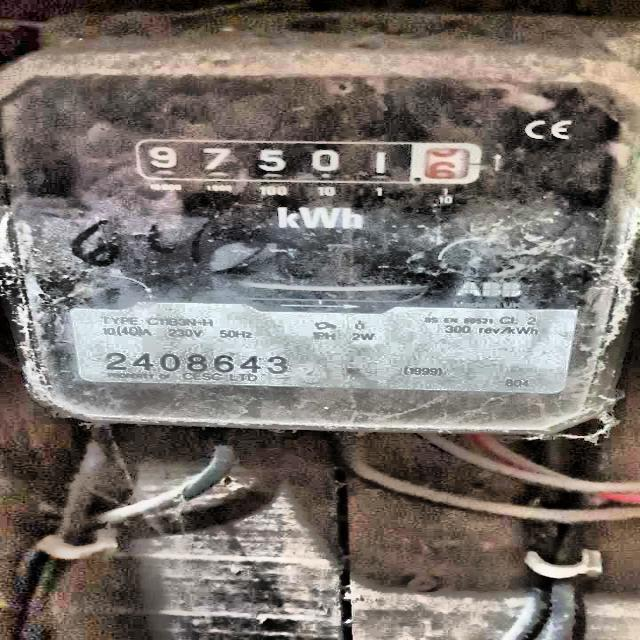Analog: (7, 50, 640, 422)
Reading: (143, 142, 474, 180)
Serial No.: (102, 354, 288, 372)
